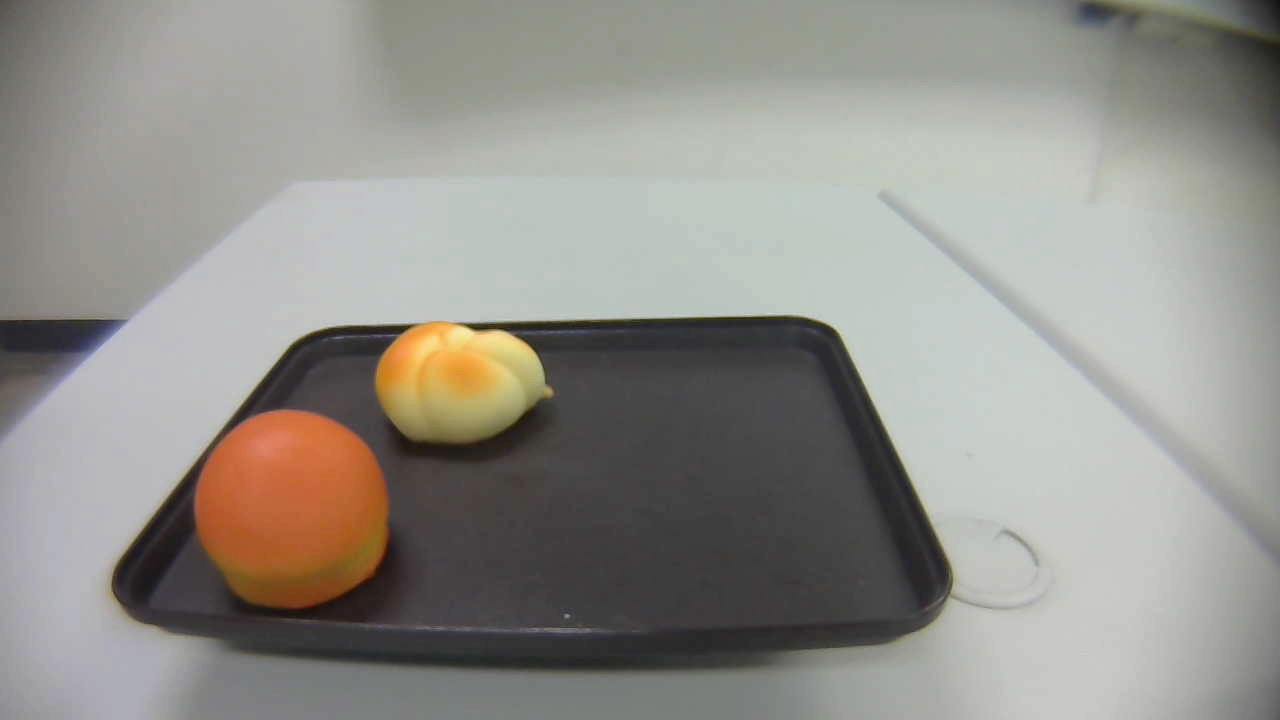bun: (193, 410, 390, 611)
twist bread: (374, 322, 554, 444)
